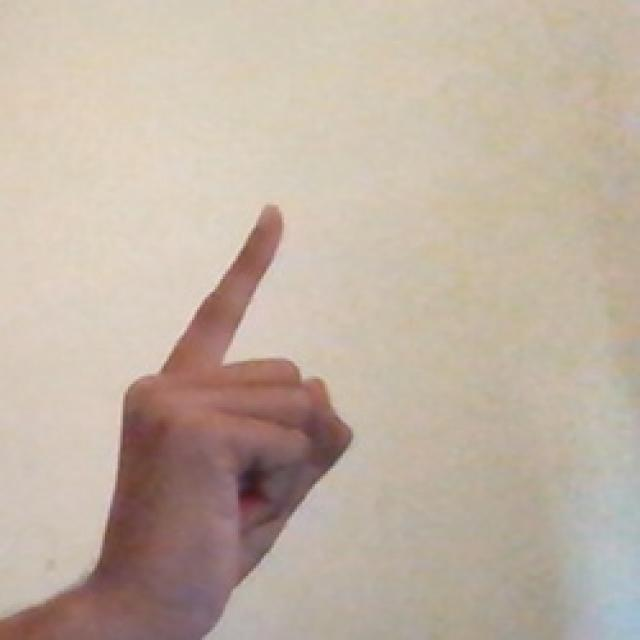Alphabet-I: (90, 136, 395, 640)
